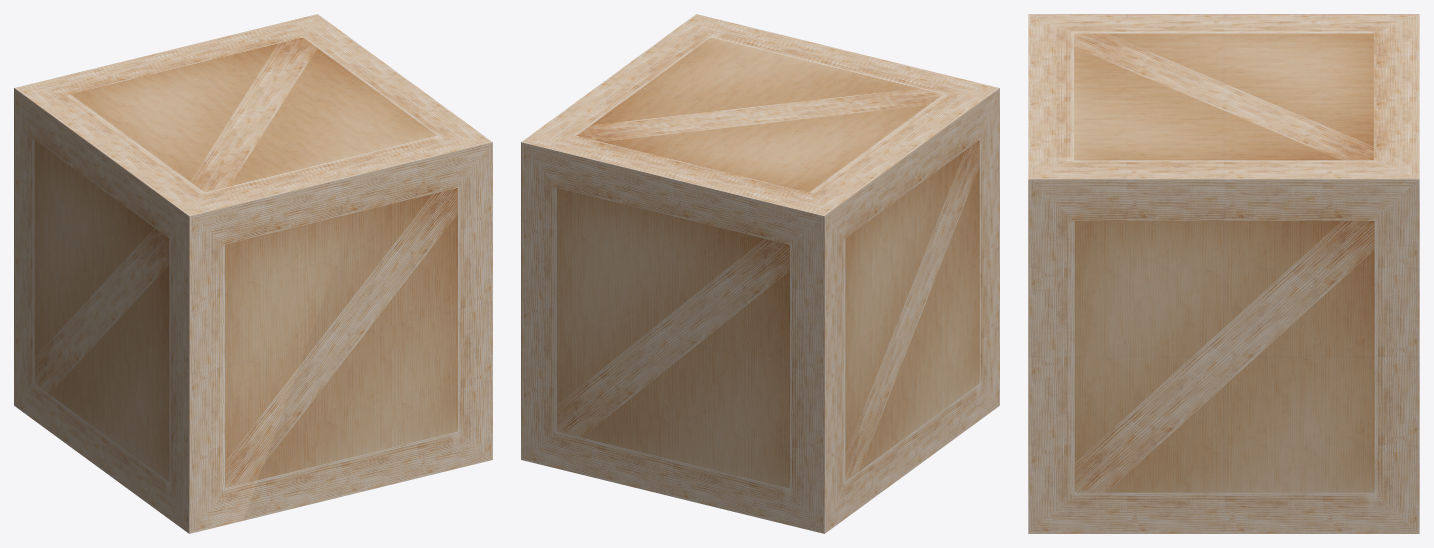
File: Wood_box.FBX
3 views of the same model, side by side, from view 1: azimuth 30°, elevation 25°; view 2: azimuth 150°, elevation 25°; view 3: azimuth 270°, elevation 25° (orthographic). The views are drawn at different scales.
Visible parts, largest first — view 1: Box016, Object002, Object001; view 2: Box016, Object001, Object002; view 3: Box016, Object002, Object001.
Boxes of the visible parts, x1,y1,x2,y2 form: Box016: (14, 14, 405, 533); Object002: (243, 78, 492, 520); Object001: (14, 14, 317, 255); Box016: (521, 44, 999, 533); Object001: (521, 124, 903, 459); Object002: (609, 14, 818, 77); Box016: (1028, 14, 1419, 533); Object002: (1028, 112, 1308, 533); Object001: (1243, 14, 1419, 533).
Size of the model in its own units: 26.52 by 26.52 by 26.52.
1 material, 1 textured.
